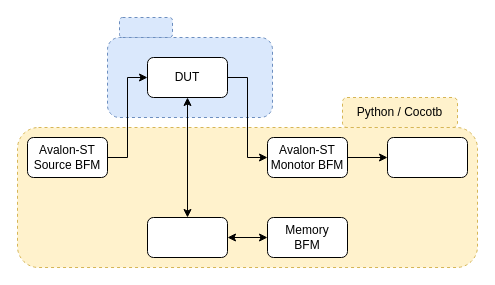
Some shapes in this 495 by 285 pixel diagram are drawn without their labels. Here are the shapes that lost their labels. From the top down, the centre of each, then its label:
At point 145,27: "RTL".
At point 427,157: "Avalon-ST Sink BFM".
At point 187,237: "Avalon-MM Memory BFM".
